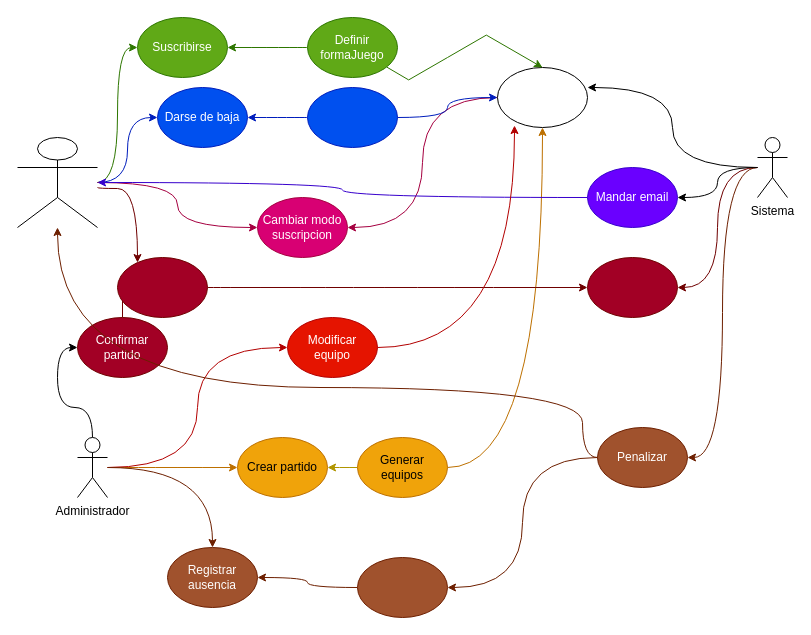
Image size: 811x635. Some labels were removed from this diagram. The shapes that lost their labels are listed below. From the top down, each one's centre as x and y in pixels, then its label:
the point at 352,117: Jugador reemplazo
the point at 542,97: Llenar Jugadores partido
the point at 57,182: Usuario
the point at 162,287: Calificar jugador
the point at 632,287: Promedio
the point at 402,587: Gestion de infraccion
